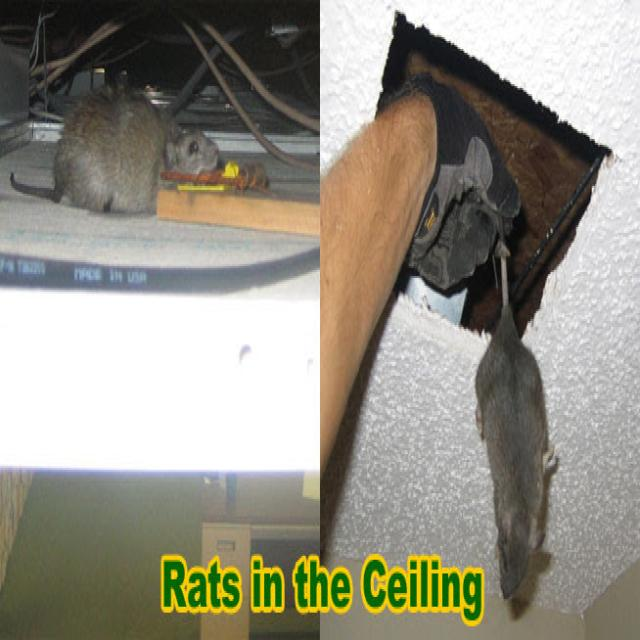rat: (472, 223, 561, 620), (12, 90, 228, 228)
